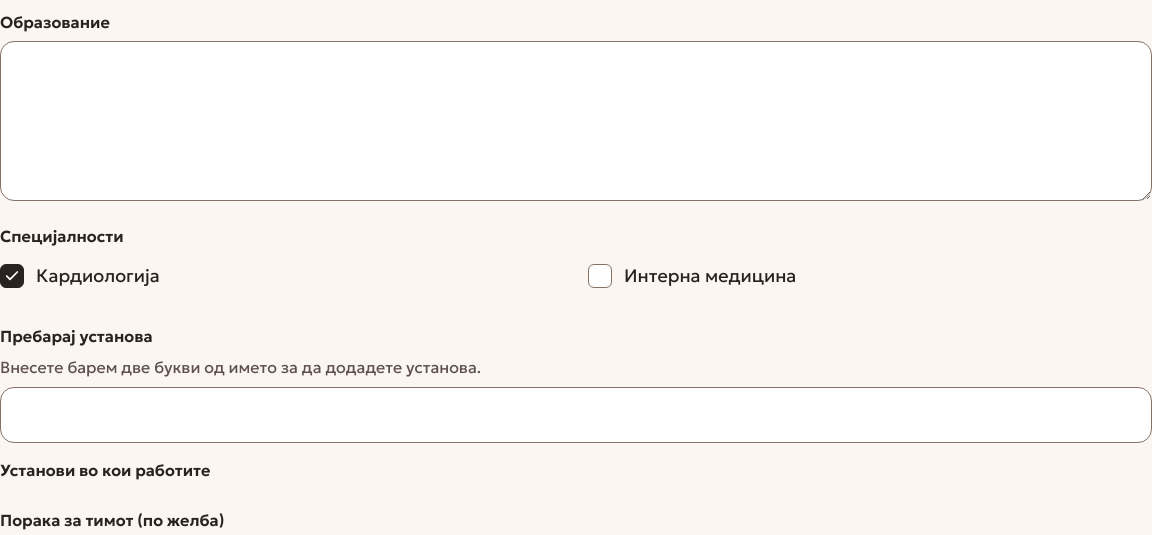
Scenario: DoctorChangeRequestForm › says when no workplace has that name
(page scrolled)
Type "непостоечка" into the search field labelled "Пребарај установа" at (576, 415), box [0,387,1151,443]
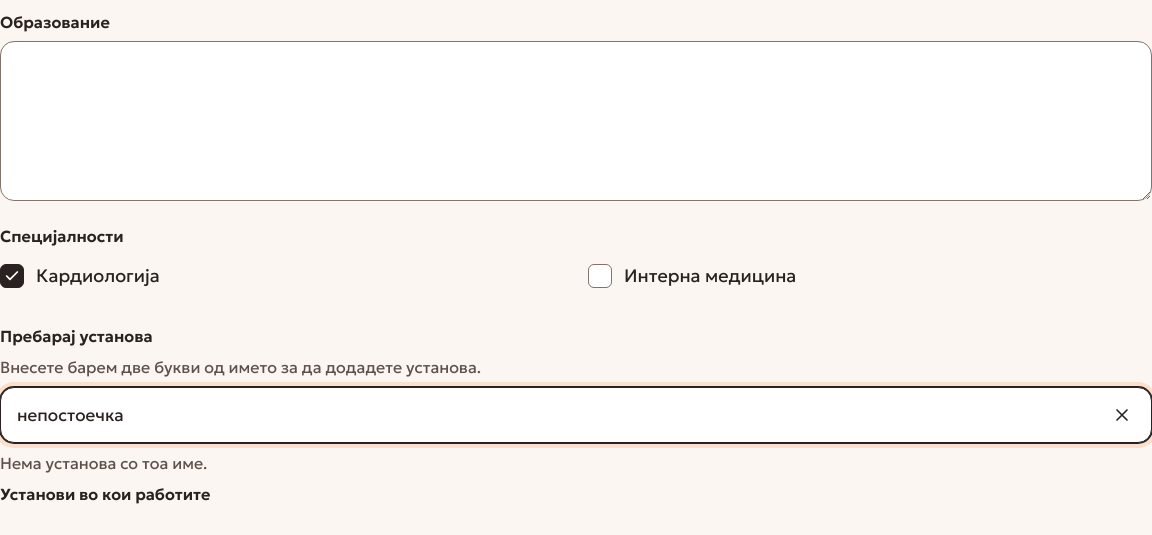
Expected: the text "Нема установа со тоа име." is shown, [0,453,207,473]
